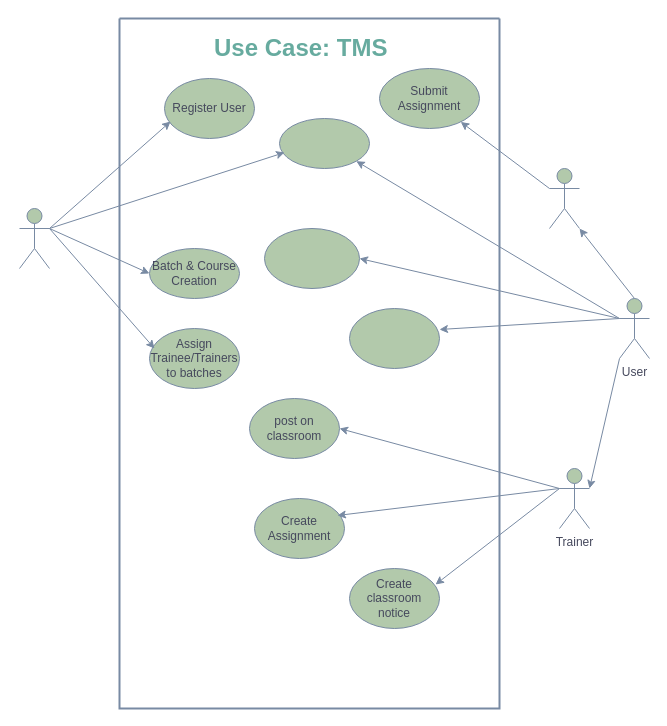
Image size: 667x726. Some labels were removed from this diagram. The shapes that lost their labels are listed below. From the top down, each one's centre as x and y in pixels, then its label:
At [324,143]: "Login".
At [564,198]: "Trainee".
At [34,238]: "Admin".
At [312,258]: "Send text on chat room".
At [394,338]: "comment on post".
